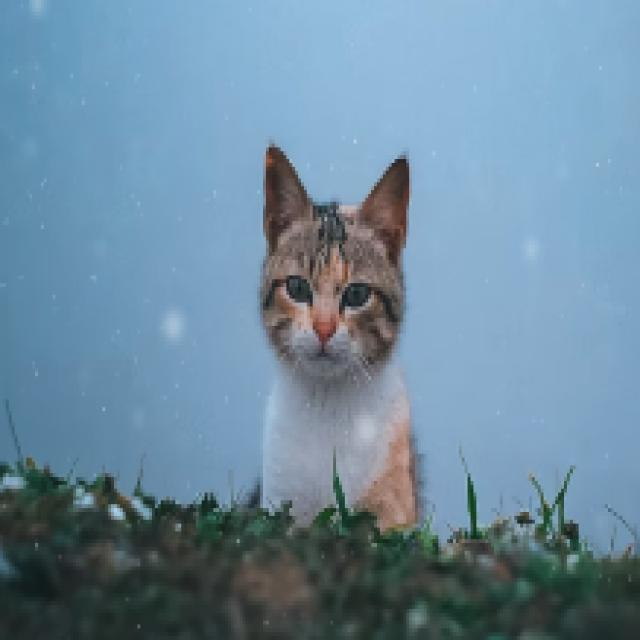CategoryTile: (260, 143, 422, 521)
